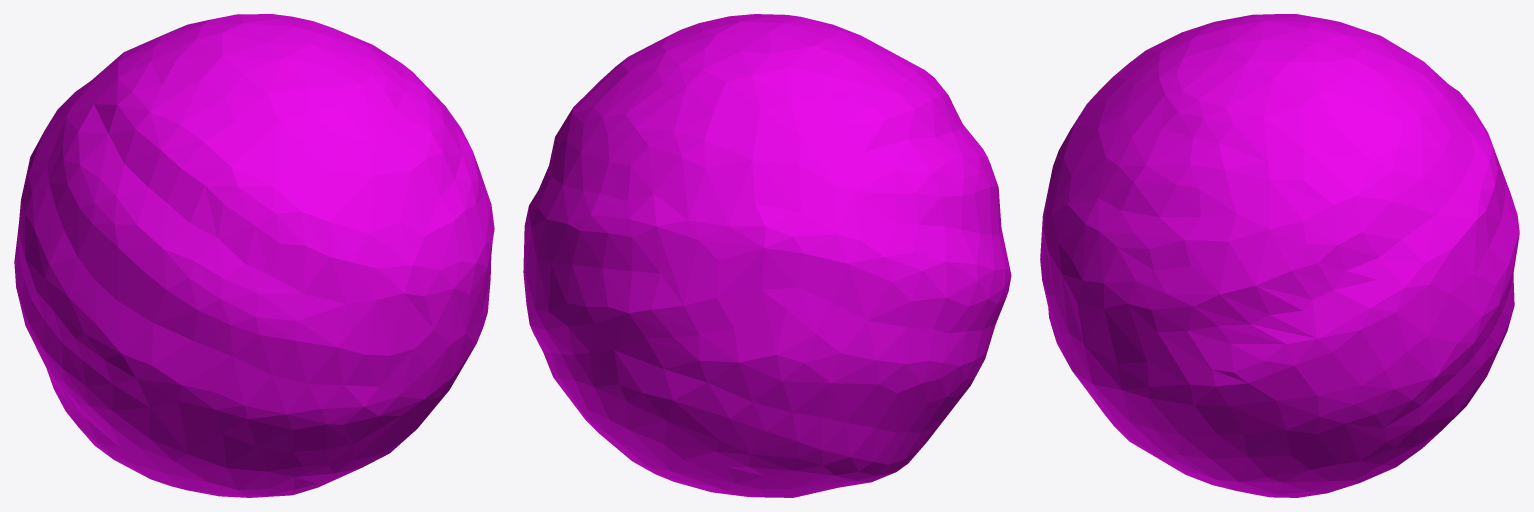
The model's file is planet_C.fbx.
The picture shows the model from 3 angles, left to right: view 1: azimuth 30°, elevation 25°; view 2: azimuth 150°, elevation 25°; view 3: azimuth 270°, elevation 25°; orthographic projection.
Visible parts, largest first — view 1: Planed_C; view 2: Planed_C; view 3: Planed_C.
Boxes of the visible parts, left/top/right/bottom form: Planed_C: left=14, top=14, right=494, bottom=497; Planed_C: left=523, top=14, right=1011, bottom=497; Planed_C: left=1040, top=14, right=1519, bottom=497.
Bounding box in the file's own units: 173 × 170 × 170.
